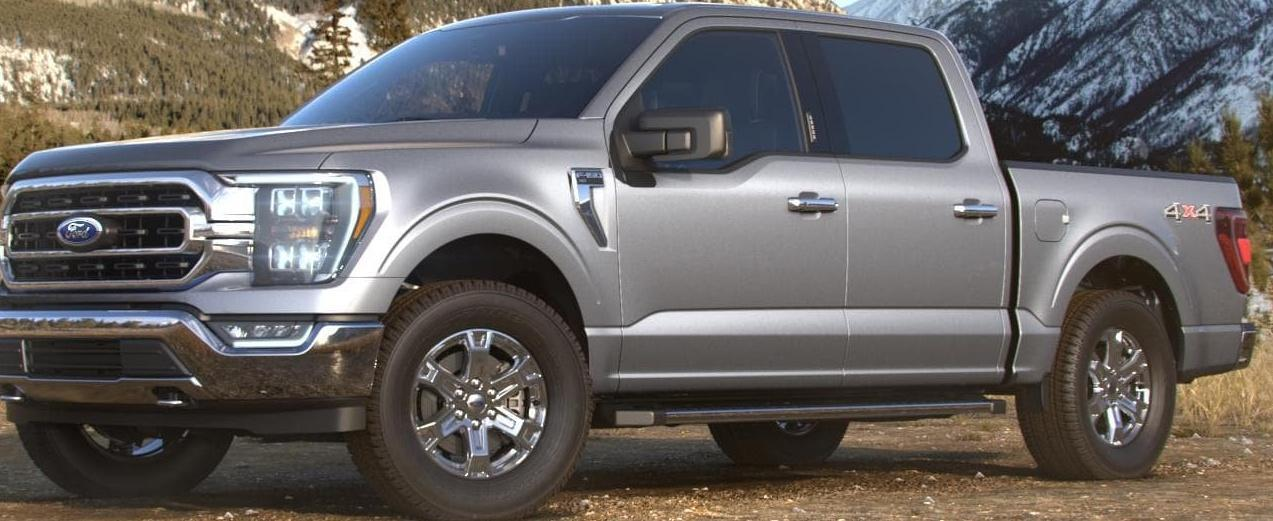Trucks: (1, 6, 1257, 518)
